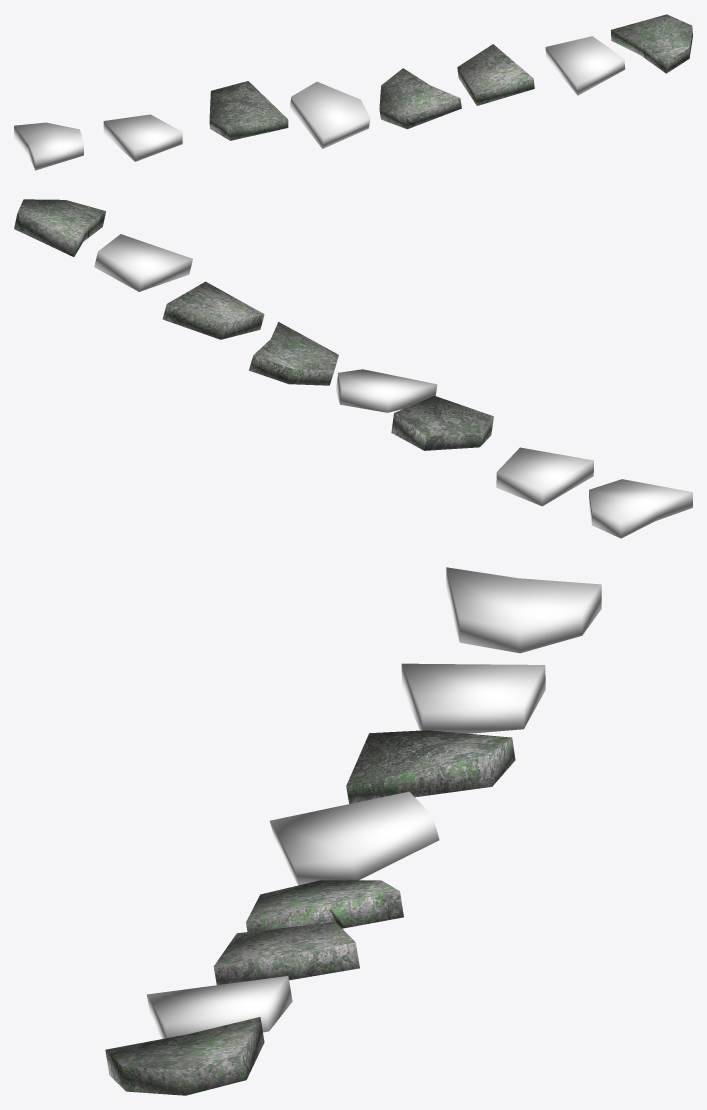
File: graden_stones_b.glb
3 renders of one model, top to bottom at view 1: azimuth 30°, elevation 25°; view 2: azimuth 150°, elevation 25°; view 3: azimuth 270°, elevation 25°, orthographic. The views are drawn at different scales.
Parts seen in each view (by area): view 1: rock_gray.jpg__, city_rock.jpg__; view 2: rock_gray.jpg__, city_rock.jpg__; view 3: city_rock.jpg__, rock_gray.jpg__.
Part boxes in pixels (x1=…): rock_gray.jpg__: x1=209, y1=14, x2=692, y2=140; city_rock.jpg__: x1=14, y1=36, x2=625, y2=170; rock_gray.jpg__: x1=14, y1=199, x2=493, y2=450; city_rock.jpg__: x1=94, y1=234, x2=692, y2=538; city_rock.jpg__: x1=146, y1=567, x2=601, y2=1038; rock_gray.jpg__: x1=105, y1=730, x2=515, y2=1095.
Size of the model in its own units: 20.21 by 1.92 by 7.33.
Materials: 2 (1 with a texture image).
